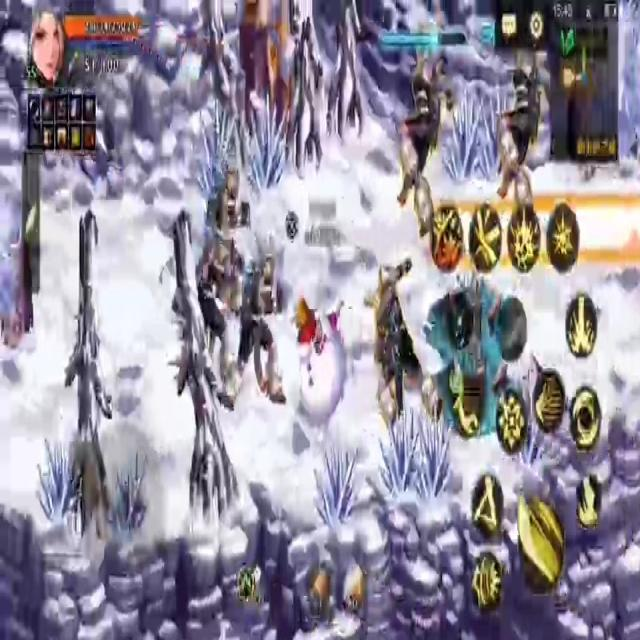player: (292, 296, 347, 452)
